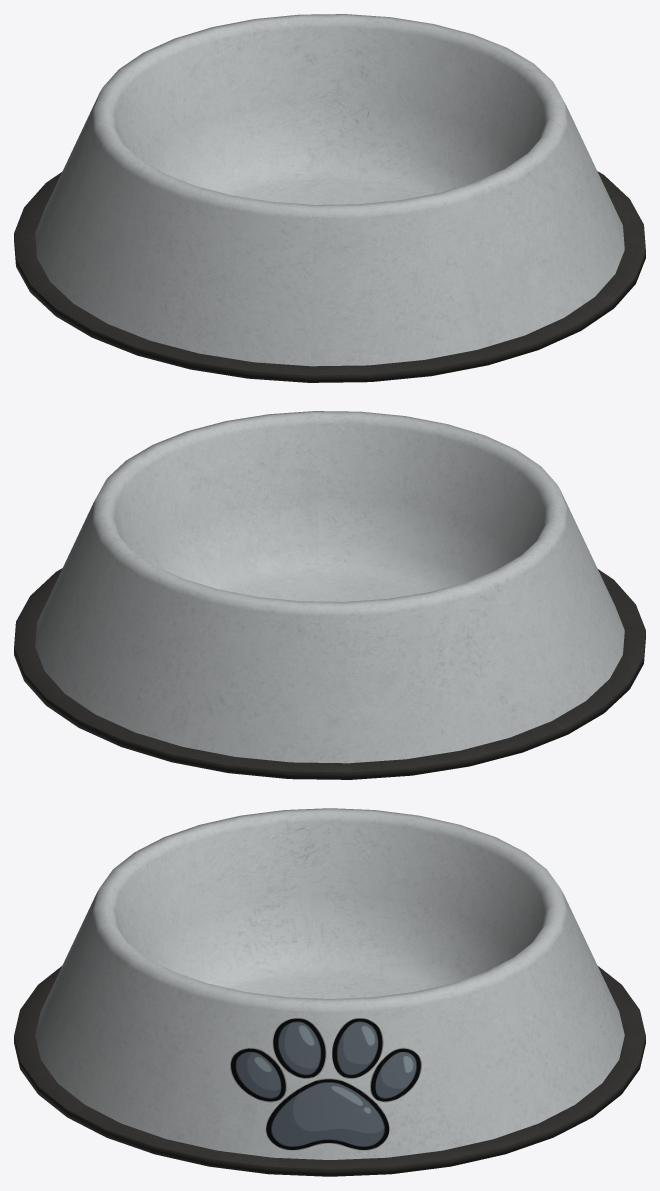
File: pet_bowl.glb
3 views of the same model, one above another, from view 1: azimuth 30°, elevation 25°; view 2: azimuth 150°, elevation 25°; view 3: azimuth 270°, elevation 25° (orthographic).
Parts seen in each view (by area): view 1: pet-bowl; view 2: pet-bowl; view 3: pet-bowl.
Boxes of the visible parts, left/top/right/bottom form: pet-bowl: left=14, top=14, right=645, bottom=382; pet-bowl: left=14, top=411, right=645, bottom=779; pet-bowl: left=14, top=808, right=645, bottom=1176.
Size of the model in its own units: 0.2688 by 0.0645 by 0.2688.
Materials: 2 (2 with a texture image).
